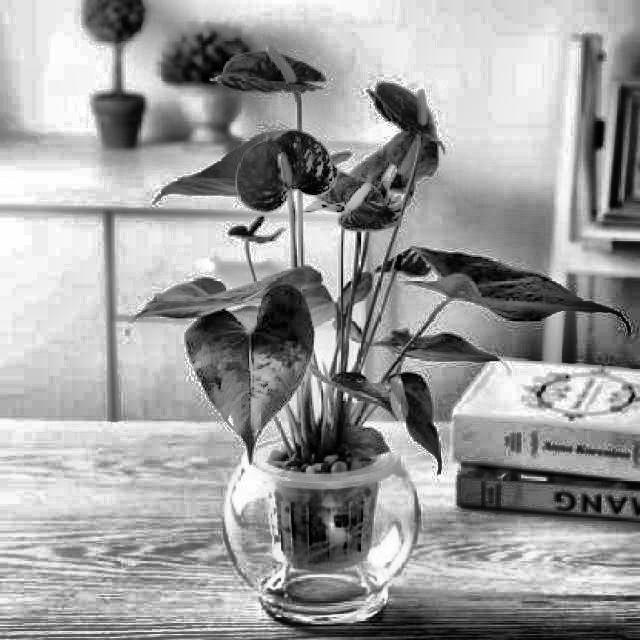plants: (206, 43, 448, 628)
